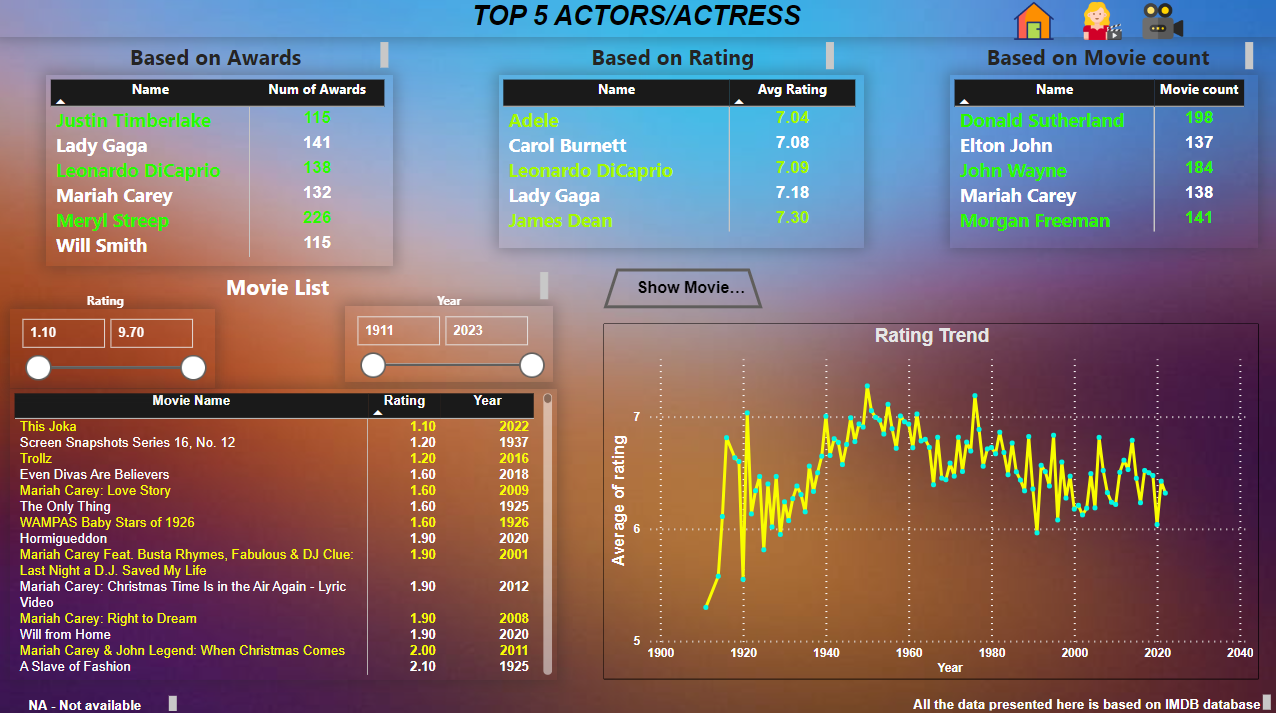

This screenshot's page, from the dashboard's own definition file:
{"tool":"powerbi","page":{"name":"Movie_analysis","canvas":[1280,720],"ordinal":3},"visuals":[{"type":"textbox","box":[0,0,1280,40.9],"z":0},{"type":"pivotTable","fields":{"Rows":["Entertiner_basics_populated.name"],"Values":["Resource_Measures.Avg_rating"]},"box":[502,78.9,365.5,172.9],"z":1000},{"type":"pivotTable","fields":{"Rows":["Entertiner_basics_populated.name"],"Values":["Resource_Measures.M_count"]},"box":[953.9,78.9,307.9,172.9],"z":2000},{"type":"pivotTable","fields":{"Rows":["Entertiner_basics_populated.name"],"Values":["Resource_Measures.awards count"]},"box":[50,78.9,347.3,191.1],"z":3000},{"type":"textbox","box":[49.4,41,347.3,37.4],"z":4000},{"type":"textbox","box":[518.7,40.9,324.5,37.9],"z":5000},{"type":"textbox","box":[949.4,40.9,312.4,37.9],"z":6000},{"type":"pivotTable","fields":{"Rows":["list_of_films.movie_name"],"Values":["Resource_Measures.movie_rating","list_of_films.year.1"]},"box":[13.3,392,547.2,291.6],"z":7000},{"type":"slicer","fields":{"Values":["list_of_films.year.1"]},"box":[348.4,310.5,208.3,75.7],"z":8000},{"type":"textbox","box":[13.3,270.8,543.4,37.9],"z":9000},{"type":"textbox","box":[910,694.2,370,25.8],"z":10000},{"type":"textbox","box":[0,694.7,185.7,25.3],"z":11000},{"type":"slicer","fields":{"Values":["list_of_films.rating"]},"box":[13.3,312.4,204.5,79.5],"z":12000},{"type":"textbox","box":[13.3,289.7,191.2,37.9],"z":13000},{"type":"textbox","box":[357.9,289.7,191.2,37.9],"z":14000},{"type":"lineChart","title":"Rating Trend","fields":{"Category":["list_of_films.year.1"],"Y":["list_of_films.rating"]},"box":[607.8,327.6,655.1,356],"z":16000},{"type":"actionButton","title":"Show Movie count","box":[607.8,272.6,159.2,39.8],"z":17000},{"type":"image","box":[1007,0,61.5,49.4],"z":19000},{"type":"image","box":[1131.3,0,71.2,50.7],"z":20000},{"type":"image","box":[1068.5,0,74.8,49.4],"z":21000}]}

Visuals, with their boxes in screenshot pixels (x1, y1, x2, y2), scaled from the page's 1280x720 canvas onto the 1276x713 screenshot:
textbox: 0 0 1275 41
pivotTable - Entertiner_basics_populated.name x Resource_Measures.Avg_rating: 500 78 865 249
pivotTable - Entertiner_basics_populated.name x Resource_Measures.M_count: 951 78 1258 249
pivotTable - Entertiner_basics_populated.name x Resource_Measures.awards count: 50 78 396 267
textbox: 49 41 395 78
textbox: 517 41 841 78
textbox: 946 41 1258 78
pivotTable - list_of_films.movie_name x Resource_Measures.movie_rating: 13 388 559 677
slicer - list_of_films.year.1: 347 307 555 382
textbox: 13 268 555 306
textbox: 907 687 1275 712
textbox: 0 688 185 712
slicer - list_of_films.rating: 13 309 217 388
textbox: 13 287 204 324
textbox: 357 287 547 324
"Rating Trend" lineChart: 606 324 1259 677
"Show Movie count" actionButton: 606 270 765 309
image: 1004 0 1065 49
image: 1128 0 1199 50
image: 1065 0 1140 49
